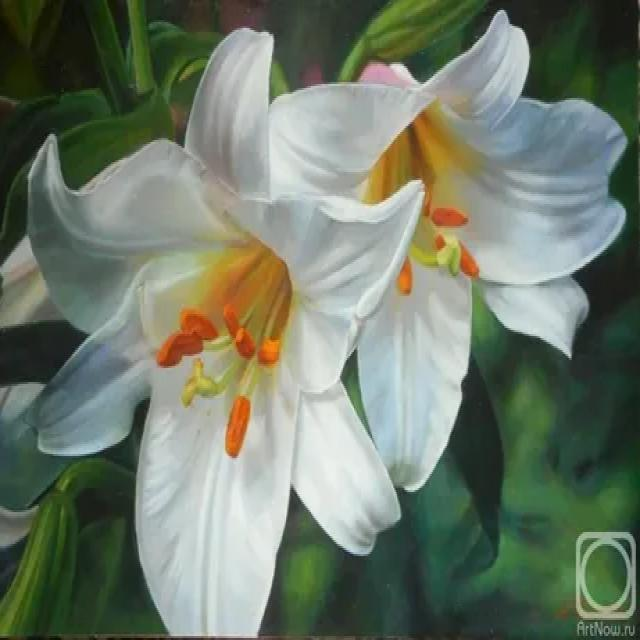lily: (16, 20, 433, 640)
